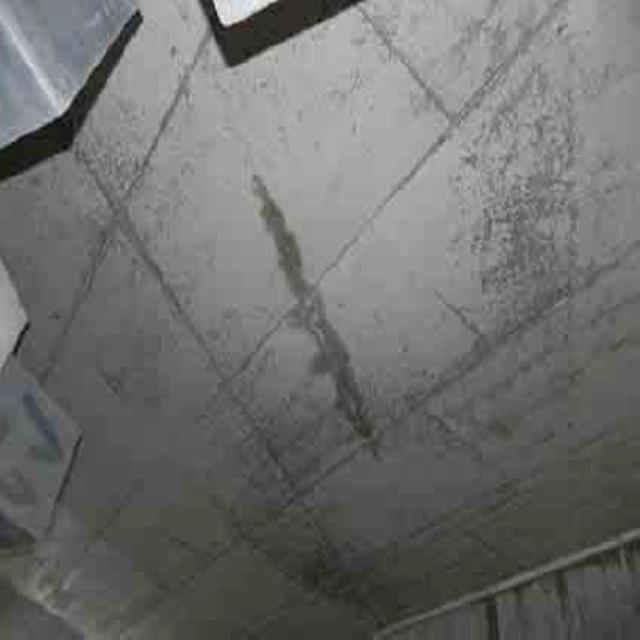leakage: (253, 174, 373, 443)
